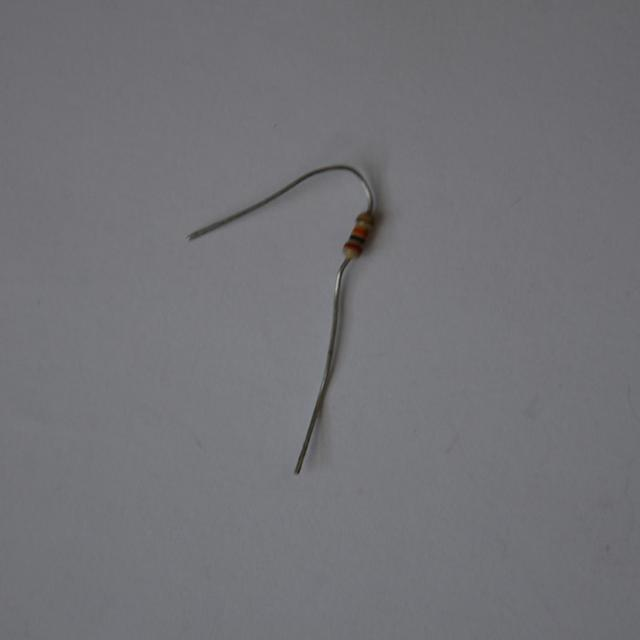black: (349, 233, 364, 241)
gold: (356, 219, 371, 227)
orange: (352, 226, 368, 234)
red: (344, 242, 361, 251)
resistor: (335, 209, 381, 262)
